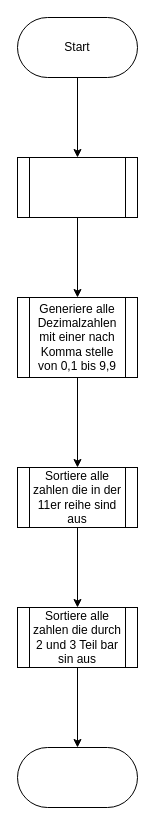
This 155x825 diagram has some shape labels left out. The centre of each missing label's shape, as x and y in pixels:
"Generriere alle zahlen von 10 bis 99" goes at point (77, 187).
"Stop" goes at point (77, 777).
